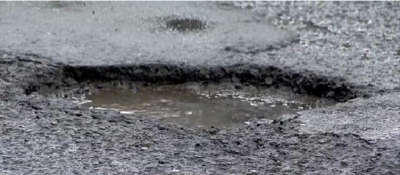pothole: (20, 60, 374, 134), (161, 14, 210, 34)
